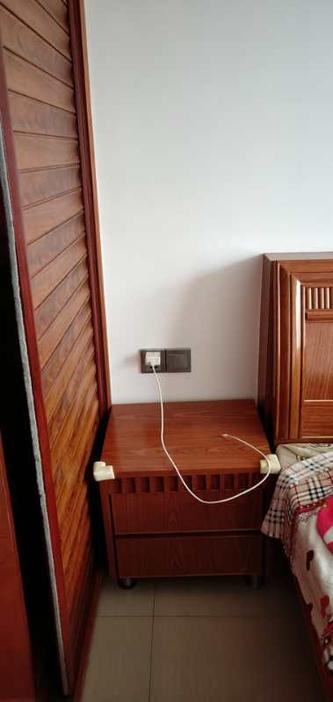switch: (167, 345, 199, 372)
